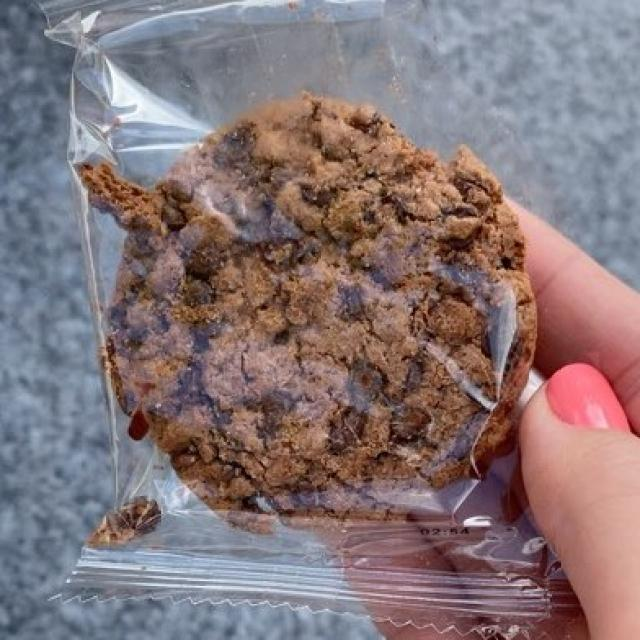cookies: (84, 102, 528, 516)
